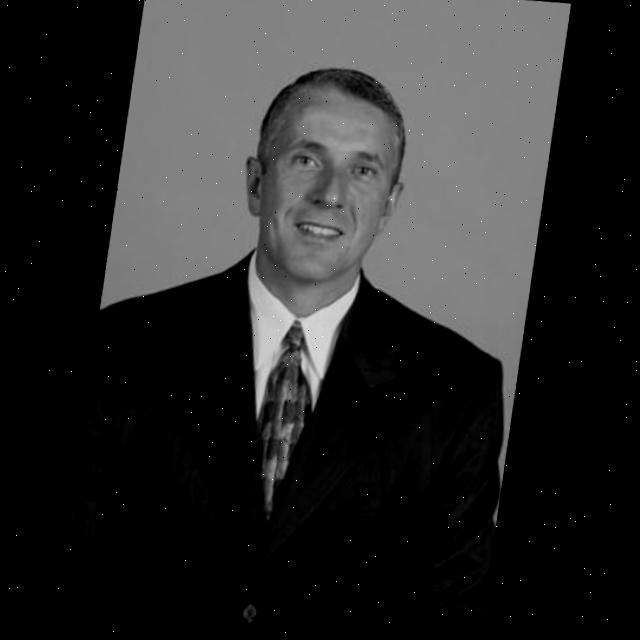face: (237, 70, 426, 285)
